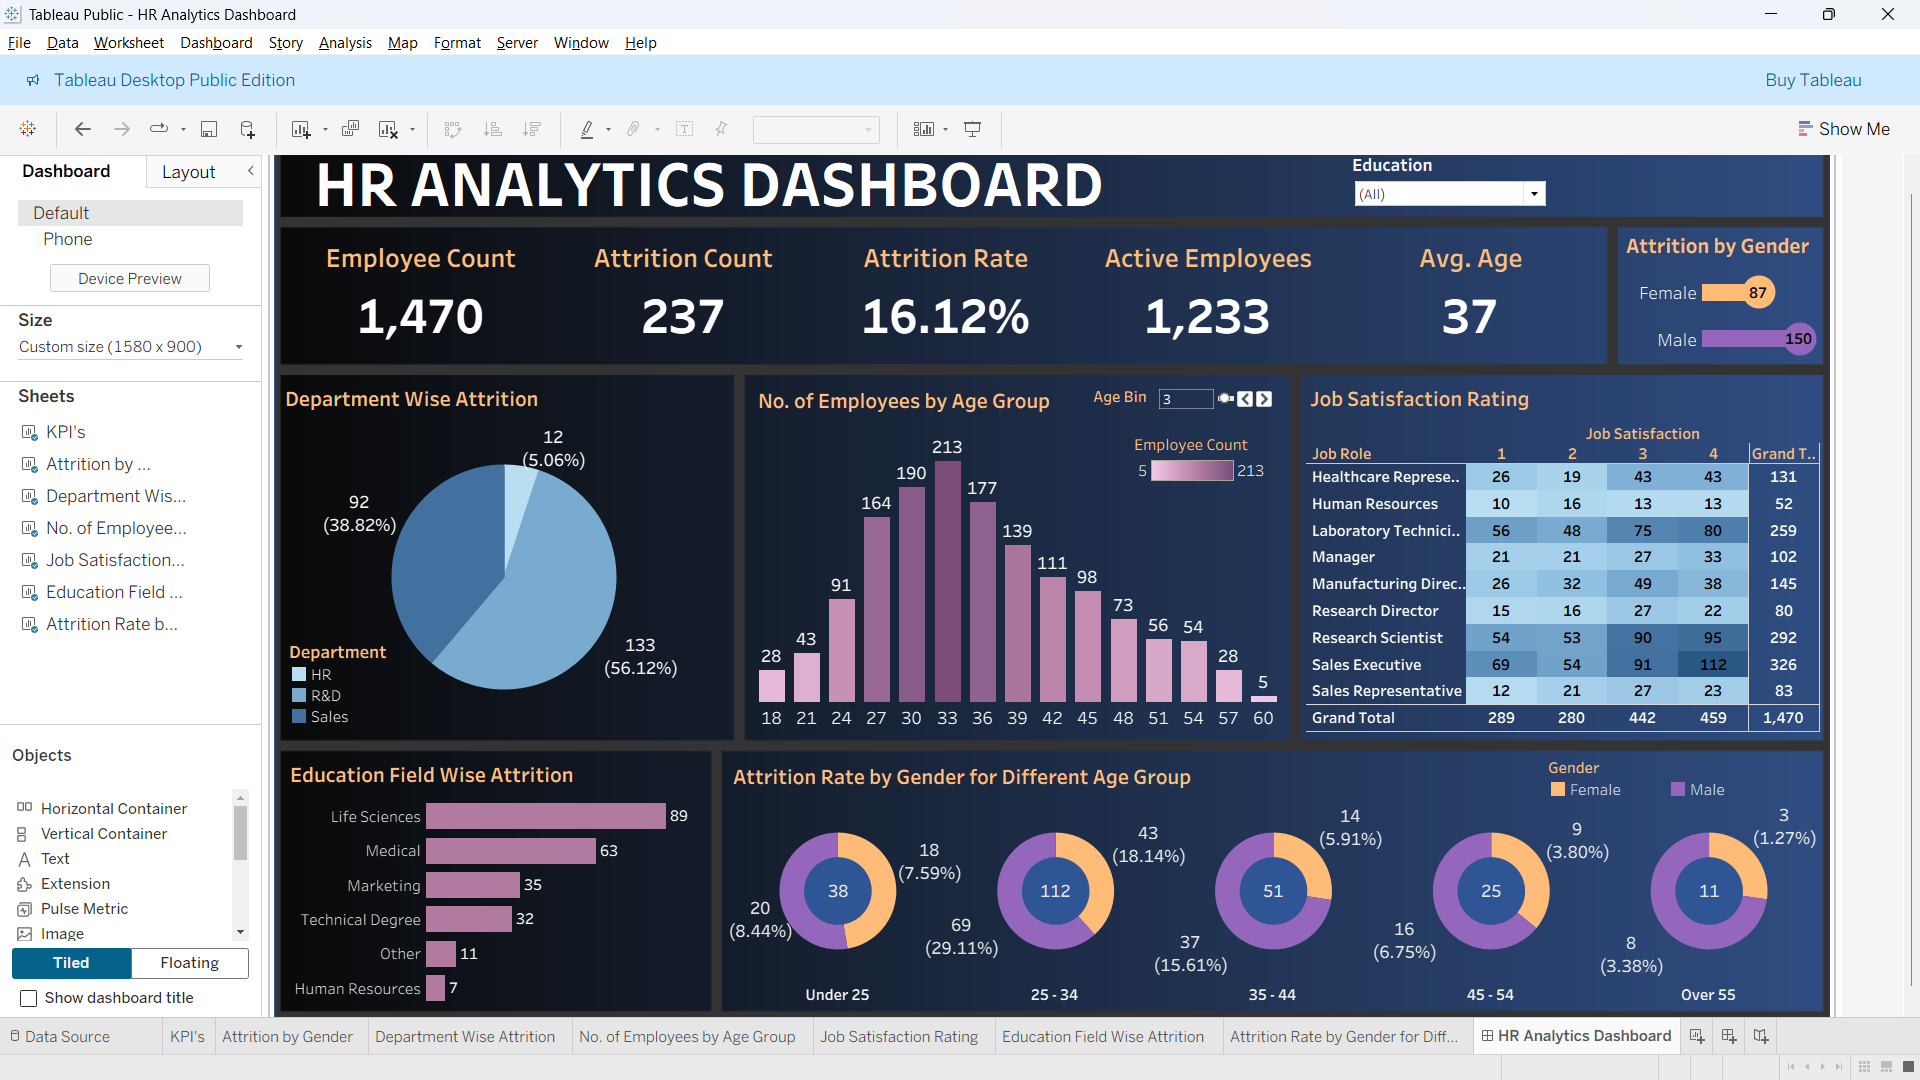

What the dashboard file says about the page in this screenshot:
{"tool":"tableau","page":{"name":"HR Analytics Dashboard","canvas":[1580,900],"ordinal":0},"visuals":[{"type":"image","param":"C:/Users/admin/Downloads/HR background.pptx.png","box":[8,8,1564,884]},{"type":"text","box":[49.1,21,856.9,59]},{"type":"filter","title":"Department Wise Attrition","param":"[federated.16ww24t0p8o7bk10wc35h02z4bjf].[none:Education:nk]","box":[1090,22,197,56]},{"type":"worksheet","title":"Attrition by Gender","mark":"Automatic","rows":["Gender"],"cols":["Calculation_746753154482675713","Calculation_746753154482675713"],"box":[1360,96,199,135]},{"type":"worksheet","title":"KPI's","mark":"Automatic","box":[28,103,1312,121]},{"type":"worksheet","title":"Department Wise Attrition","mark":"Pie","box":[19,249,446,351]},{"type":"worksheet","title":"Job Satisfaction Rating","mark":"Square","rows":["Job Role"],"cols":["Job Satisfaction"],"box":[1044,249,515,352]},{"type":"worksheet","title":"No. of Employees by Age Group","mark":"Automatic","rows":["Employee Count"],"cols":["Age (bin)"],"box":[492,251,528,348]},{"type":"parameter","param":"[Parameters].[Parameter 1]","box":[822,255,191,36]},{"type":"legend","title":"No. of Employees by Age Group","param":"[federated.16ww24t0p8o7bk10wc35h02z4bjf].[sum:Employee Count:qk]","box":[872,303,135,58]},{"type":"legend","title":"Department Wise Attrition","param":"[federated.16ww24t0p8o7bk10wc35h02z4bjf].[none:Department:nk]","box":[27,508,114,91]},{"type":"worksheet","title":"Education Field Wise Attrition","mark":"Automatic","rows":["Education Field"],"cols":["Calculation_746753154482675713"],"box":[24,625,420,249]},{"type":"legend","title":"Attrition Rate by Gender for Different Age Group","param":"[federated.16ww24t0p8o7bk10wc35h02z4bjf].[none:Gender:nk]","box":[1286,626,257,47]},{"type":"worksheet","title":"Attrition Rate by Gender for Different Age Group","mark":"Pie","rows":["Calculation_649081337959546881","Calculation_649081337959546881"],"cols":["CF_age band"],"box":[467,627,1089,248]}]}

Visuals, with their boxes on the page's 1580x900 design canvas (x1, y1, x2, y2). These are canvas units, not pixel positions in the 1920x1080 screenshot, which may show the page scaled, cropped or inside an application window:
image: (left=8, top=8, right=1572, bottom=892)
text: (left=49, top=21, right=906, bottom=80)
"Department Wise Attrition" filter: (left=1090, top=22, right=1287, bottom=78)
"Attrition by Gender" worksheet: (left=1360, top=96, right=1559, bottom=231)
"KPI's" worksheet: (left=28, top=103, right=1340, bottom=224)
"Department Wise Attrition" worksheet (Pie marks): (left=19, top=249, right=465, bottom=600)
"Job Satisfaction Rating" worksheet (Square marks): (left=1044, top=249, right=1559, bottom=601)
"No. of Employees by Age Group" worksheet: (left=492, top=251, right=1020, bottom=599)
parameter: (left=822, top=255, right=1013, bottom=291)
"No. of Employees by Age Group" legend: (left=872, top=303, right=1007, bottom=361)
"Department Wise Attrition" legend: (left=27, top=508, right=141, bottom=599)
"Education Field Wise Attrition" worksheet: (left=24, top=625, right=444, bottom=874)
"Attrition Rate by Gender for Different Age Group" legend: (left=1286, top=626, right=1543, bottom=673)
"Attrition Rate by Gender for Different Age Group" worksheet (Pie marks): (left=467, top=627, right=1556, bottom=875)
